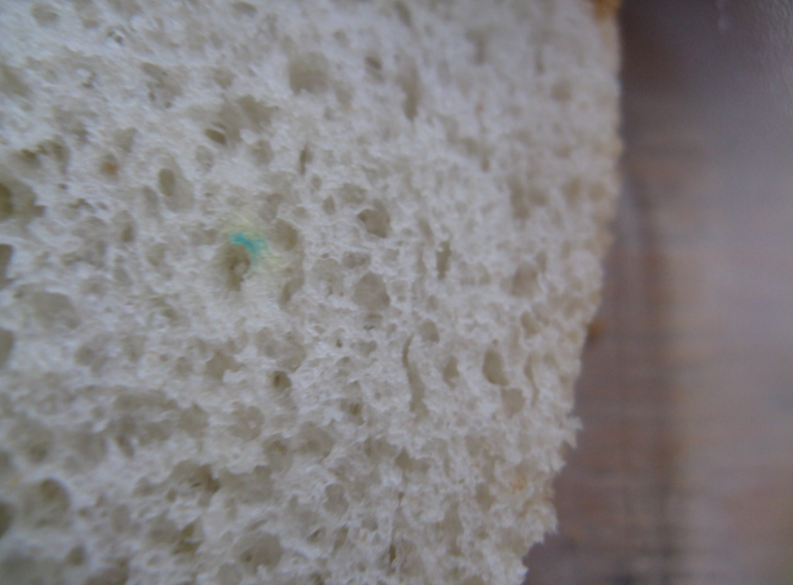mold_bread: (217, 207, 279, 287)
